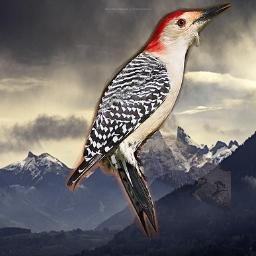Woodpecker: (64, 2, 231, 240)
